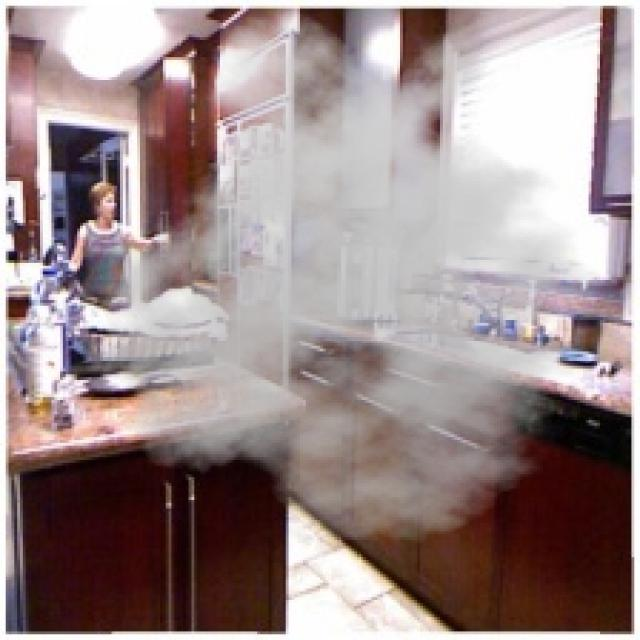smoke: (72, 8, 637, 546)
